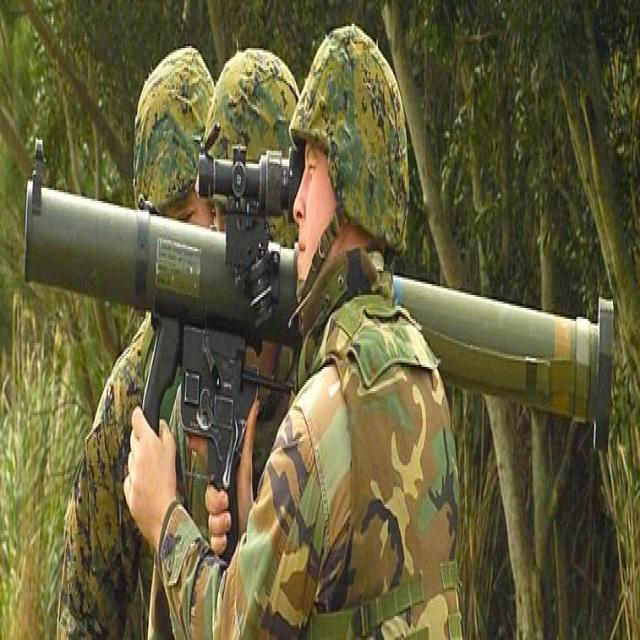bazooka: (21, 126, 624, 500)
